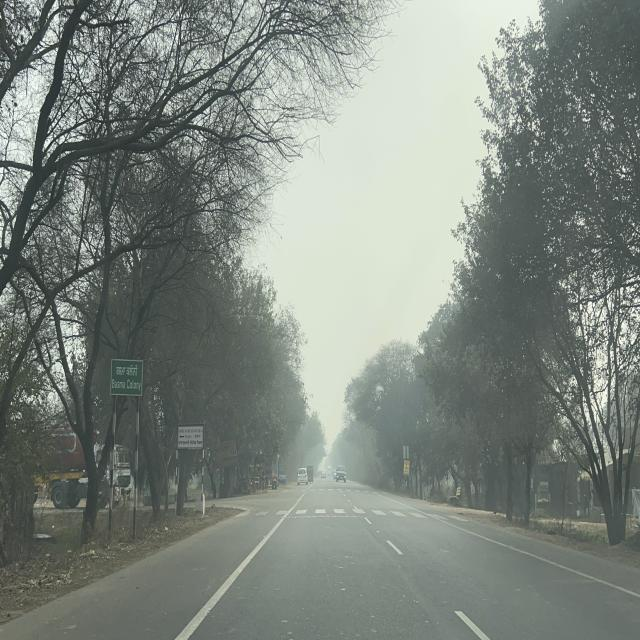GENERAL: (109, 357, 144, 397)
